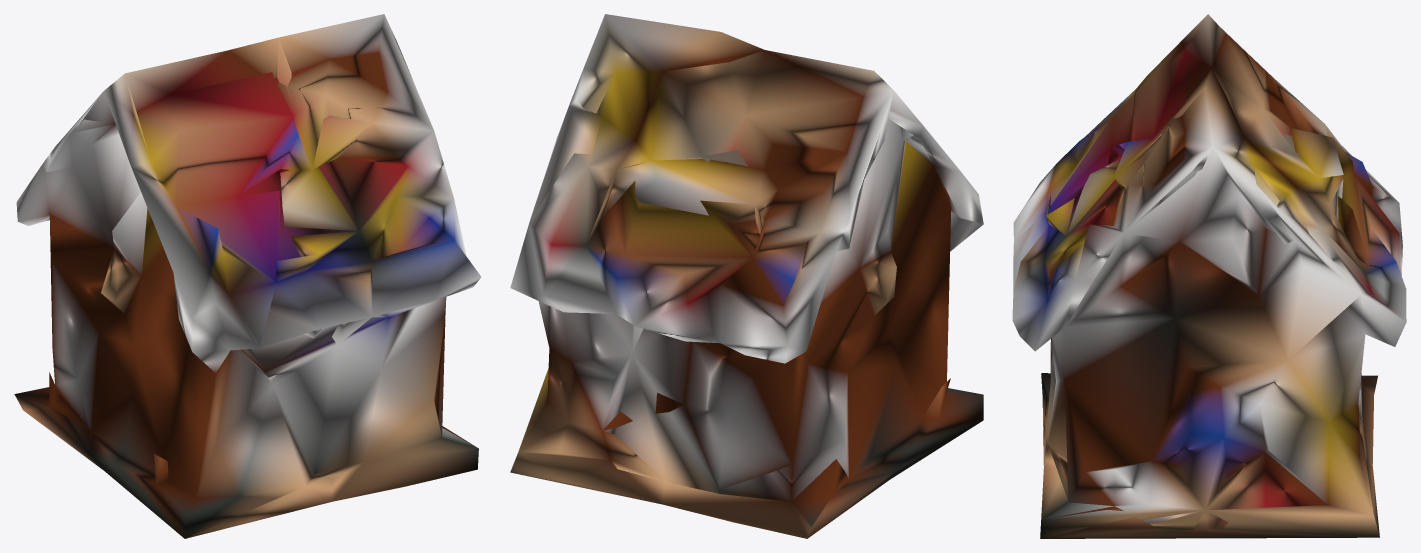
The model's file is gen3d-gingerbread-house-lod1.glb.
3 views of the same model, side by side, from view 1: azimuth 30°, elevation 25°; view 2: azimuth 150°, elevation 25°; view 3: azimuth 270°, elevation 25° (orthographic). The views are drawn at different scales.
Visible parts, largest first — view 1: part_0; view 2: part_0; view 3: part_0.
Part boxes in pixels (x1,y1,x2,y2): part_0: [14, 14, 481, 538]; part_0: [510, 14, 983, 538]; part_0: [1012, 14, 1406, 538].
Bounding box in the file's own units: 0.7749 × 0.9966 × 0.8972.
